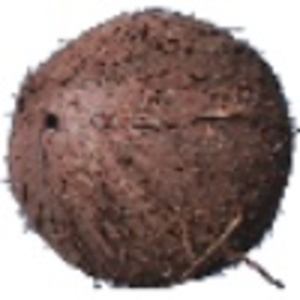coco: (6, 8, 300, 288)
